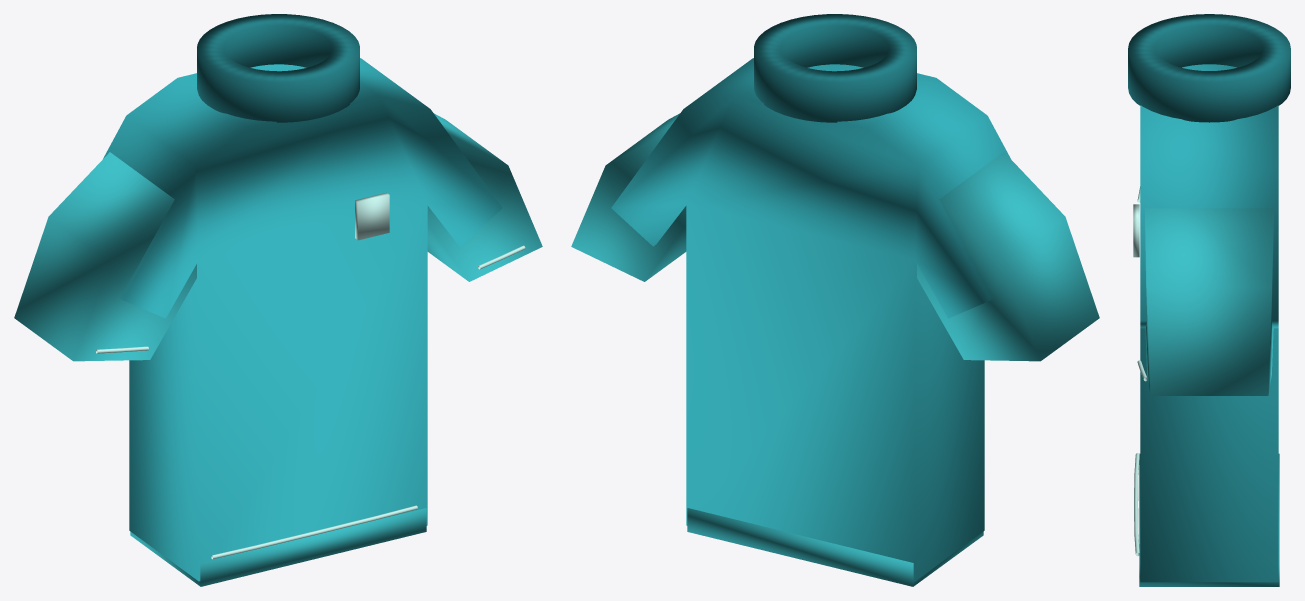
Rendered from camisaAzul.glb.
3 views of the same model, side by side, from view 1: azimuth 30°, elevation 25°; view 2: azimuth 150°, elevation 25°; view 3: azimuth 270°, elevation 25° (orthographic).
Visible parts, largest first — view 1: Playera_Torso, Manga_Izquierda, Cuello_Ribete, Manga_Derecha, Dobladillo_Inferior, Etiqueta_Pecho, Costura_Inferior_Frontal; view 2: Playera_Torso, Manga_Izquierda, Cuello_Ribete, Manga_Derecha, Dobladillo_Inferior; view 3: Playera_Torso, Manga_Derecha, Cuello_Ribete, Dobladillo_Inferior, Costura_Inferior_Frontal, Etiqueta_Pecho.
Part boxes in pixels (left/top/right/bottom): Playera_Torso: left=103, top=58, right=502, bottom=581; Manga_Izquierda: left=14, top=152, right=196, bottom=361; Cuello_Ribete: left=197, top=14, right=359, bottom=122; Manga_Derecha: left=427, top=113, right=542, bottom=281; Dobladillo_Inferior: left=130, top=508, right=426, bottom=586; Etiqueta_Pecho: left=355, top=192, right=389, bottom=240; Costura_Inferior_Frontal: left=211, top=505, right=417, bottom=559; Playera_Torso: left=611, top=58, right=1010, bottom=581; Manga_Izquierda: left=917, top=152, right=1099, bottom=361; Cuello_Ribete: left=754, top=14, right=916, bottom=122; Manga_Derecha: left=571, top=113, right=686, bottom=281; Dobladillo_Inferior: left=687, top=508, right=983, bottom=586; Playera_Torso: left=1140, top=64, right=1278, bottom=582; Manga_Derecha: left=1144, top=208, right=1274, bottom=395; Cuello_Ribete: left=1128, top=14, right=1290, bottom=122; Dobladillo_Inferior: left=1139, top=453, right=1279, bottom=586; Costura_Inferior_Frontal: left=1134, top=453, right=1139, bottom=556; Etiqueta_Pecho: left=1133, top=204, right=1139, bottom=257.
Bounding box in the file's own units: 1.56 × 1.54 × 0.47.
